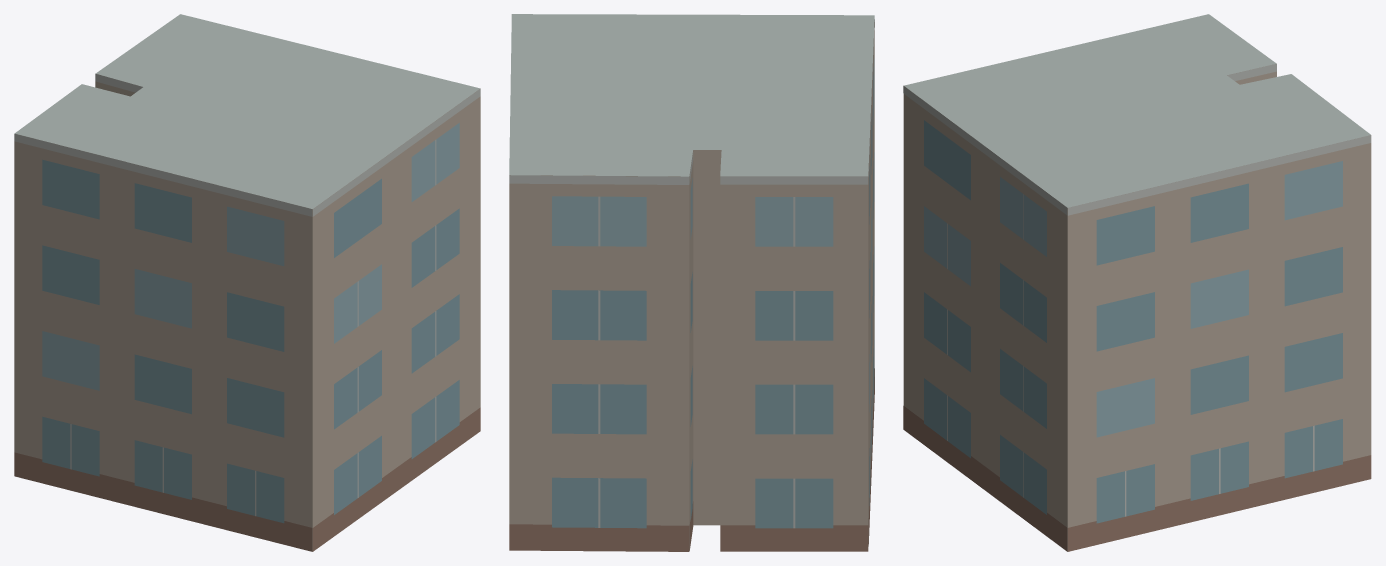
Rendered from survey-upis-33010928.glb.
3 views of the same model, side by side, from view 1: azimuth 30°, elevation 25°; view 2: azimuth 150°, elevation 25°; view 3: azimuth 270°, elevation 25° (orthographic). The views are drawn at different scales.
Parts seen in each view (by area): view 1: survey-upis-33010928.tmp; view 2: survey-upis-33010928.tmp; view 3: survey-upis-33010928.tmp.
Boxes of the visible parts, x1,y1,x2,y2 form: survey-upis-33010928.tmp: (14, 14, 480, 551); survey-upis-33010928.tmp: (509, 14, 874, 551); survey-upis-33010928.tmp: (903, 14, 1371, 551).
Bounding box in the file's own units: 12.94 × 10.7 × 13.2.
